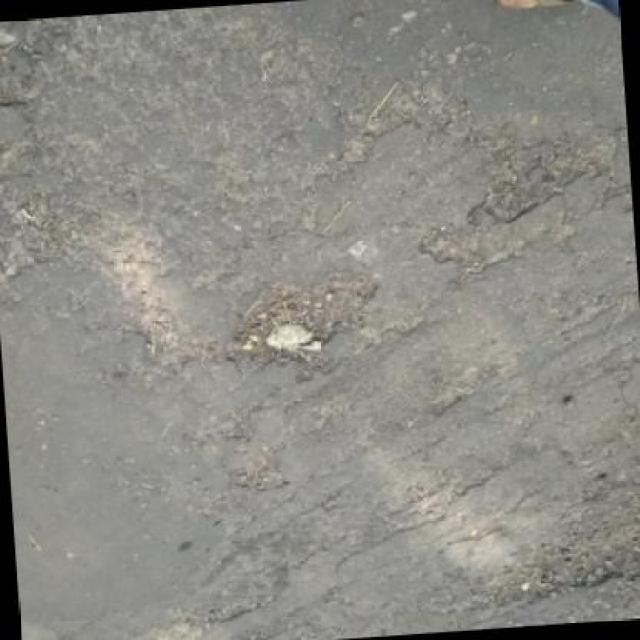pothole1: (476, 491, 638, 609), (218, 265, 385, 377), (416, 230, 504, 282), (226, 445, 294, 498), (479, 178, 548, 227)
